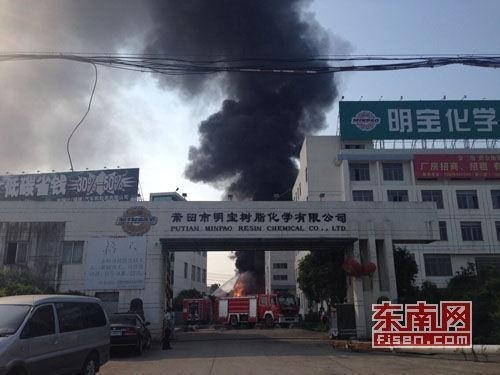fire: (233, 282, 245, 296)
